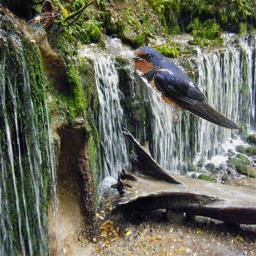Swallow: (130, 46, 240, 130), (28, 0, 61, 30)
